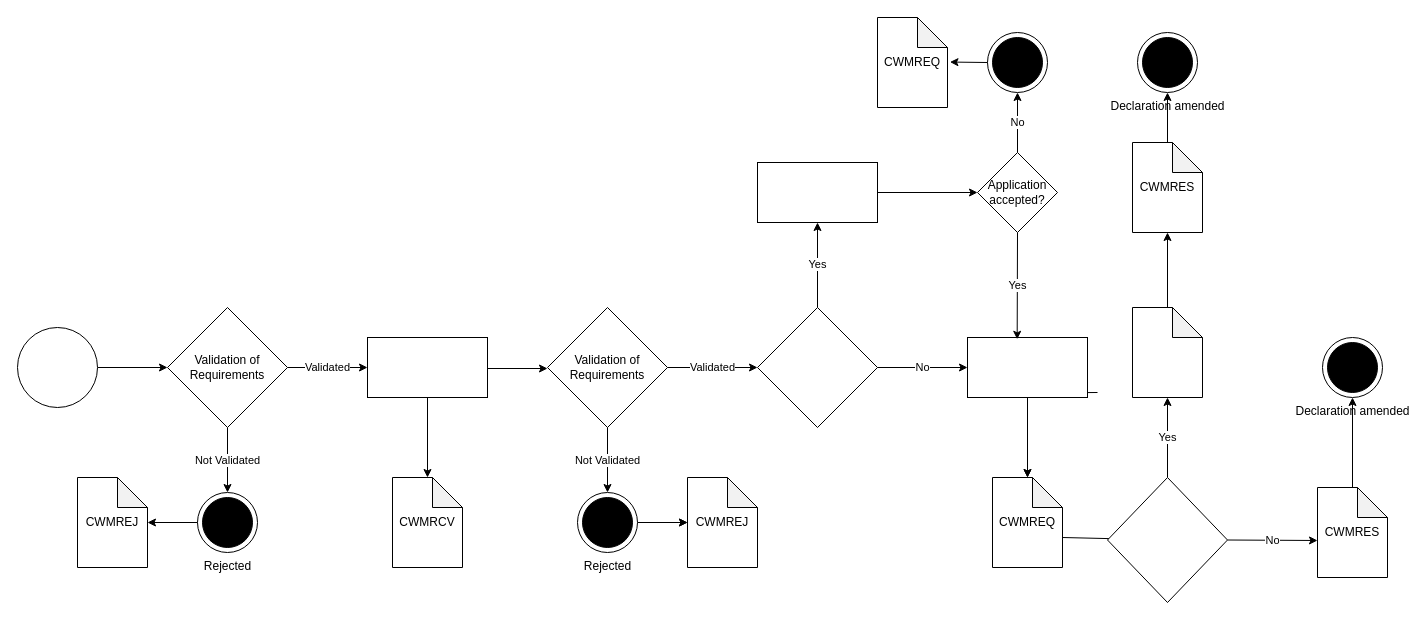
The diagram is 1427 pixels wide and 620 high, and some of its shapes have lost their labels. Each missing label, with the centre of its shape:
"Amendment of declaration" belongs at (x=1027, y=367).
"CWMTAX" belongs at (x=1167, y=352).
"Handle amendment application" belongs at (x=817, y=192).
"Manual handling needed?" belongs at (x=817, y=367).
"Recalculation of customs debt and VAT?" belongs at (x=1167, y=539).
"Registration of amendment application" belongs at (x=427, y=367).
"Start" belongs at (x=57, y=367).
